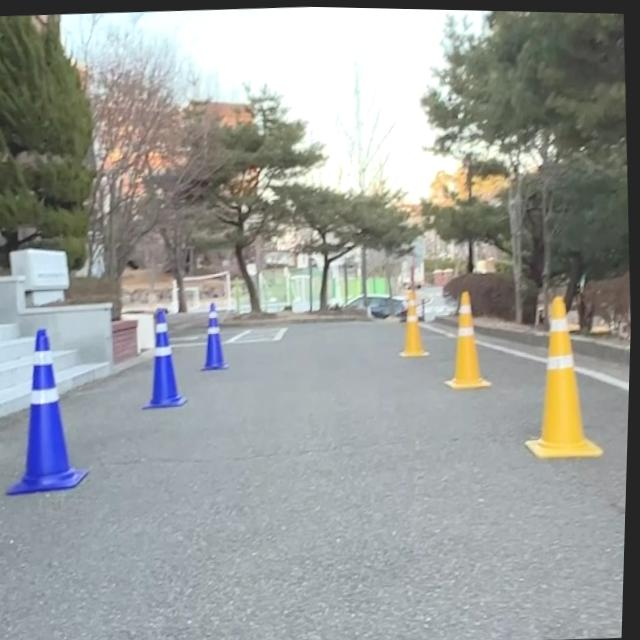b_rub: (9, 328, 92, 495), (145, 308, 190, 408), (203, 302, 231, 370)
y_rub: (530, 294, 606, 456), (449, 290, 494, 387), (402, 287, 431, 354)
